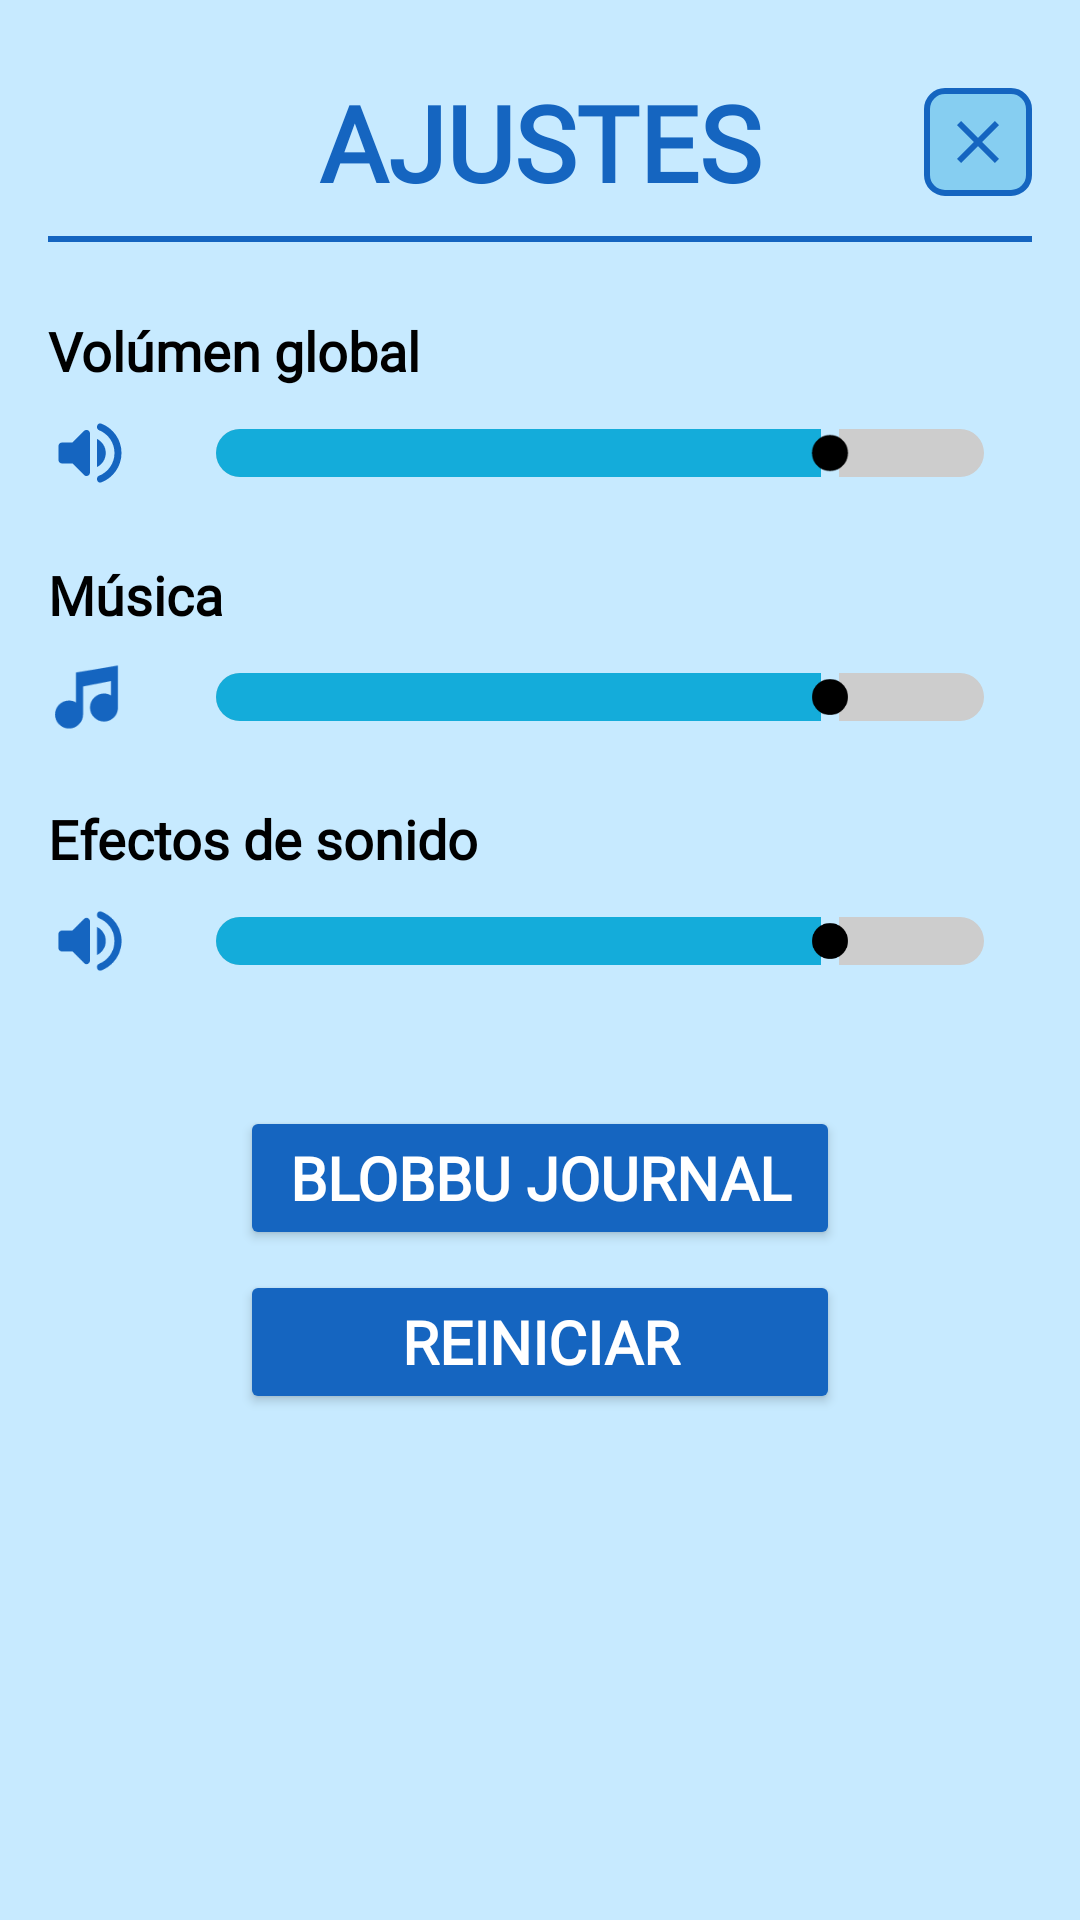

Icons on this 1080×1920 Android screen, each with its box as (x1, y1, x2, y2):
Cerrar: (924, 88, 1032, 196)
music: (55, 665, 118, 729)
volume: (58, 423, 122, 483), (58, 911, 122, 971)
